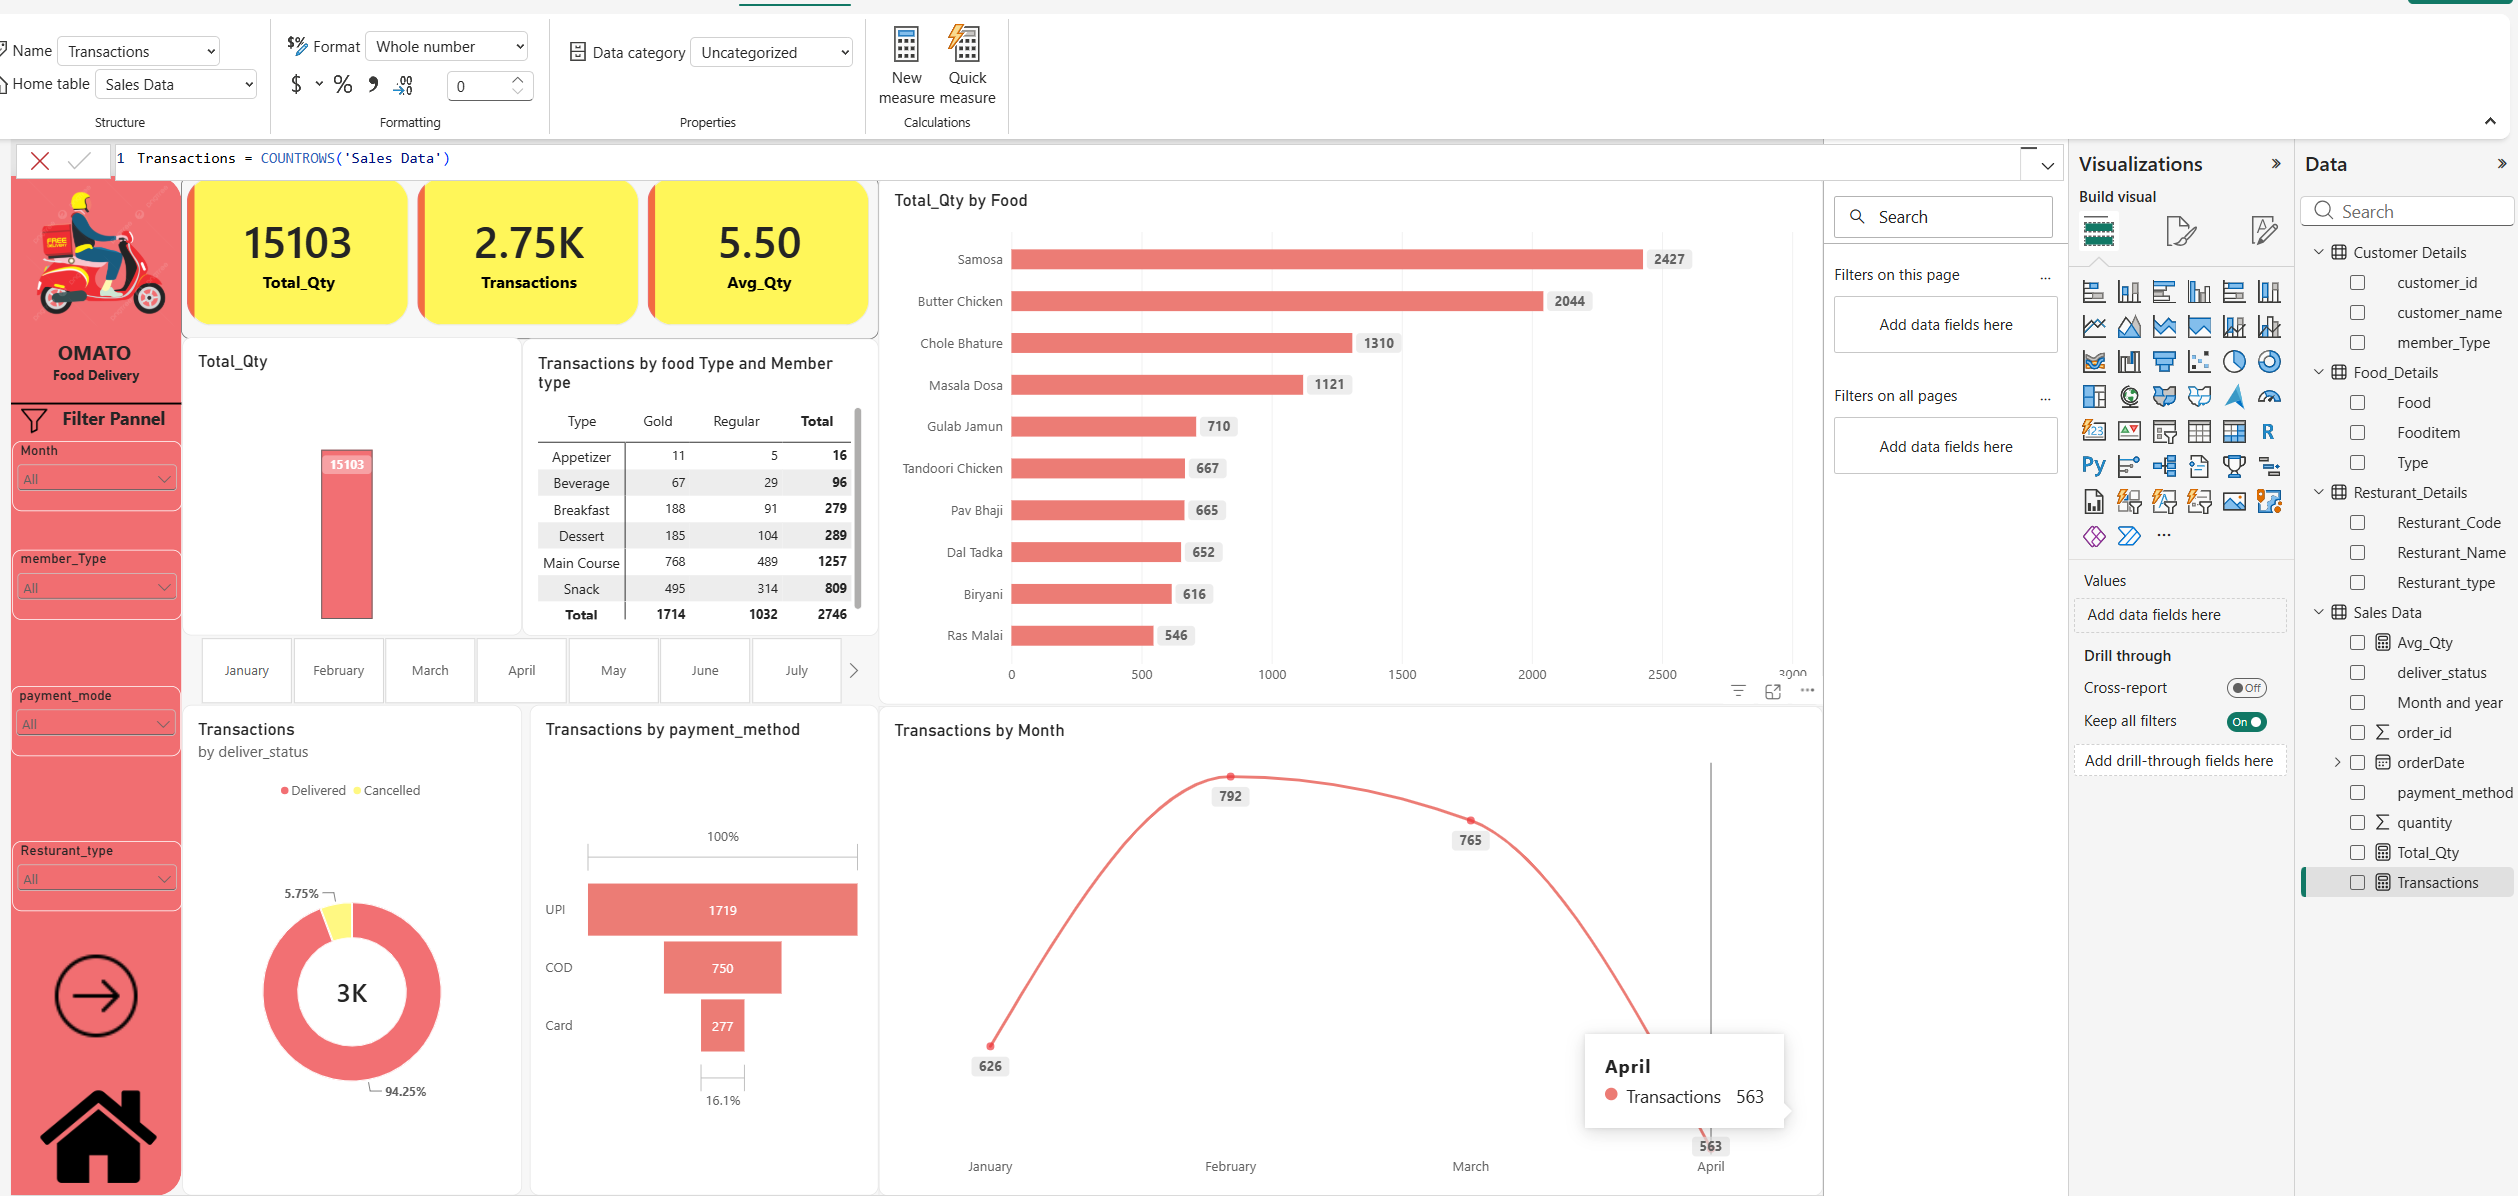

The page's visual inventory and layout, read from the dashboard file:
{"tool":"powerbi","page":{"name":"Page 1","canvas":[1920,1080],"ordinal":0},"visuals":[{"type":"shape","box":[0,0,180.7,1080.4],"z":0},{"type":"image","box":[10.6,0,170.1,163.5],"z":1000},{"type":"textbox","box":[0,172.8,180.7,66.4],"z":2000},{"type":"shape","box":[0,228.6,180.7,23.9],"z":3000},{"type":"cardVisual","fields":{"Data":["Sales Data.Total_Qty","Sales Data.Transactions","Sales Data.Avg_Qty"]},"box":[180.7,0,738.9,172.8],"z":4000},{"type":"clusteredColumnChart","fields":{"Y":["Sales Data.Total_Qty"]},"box":[182.1,171.4,360.1,316.3],"z":5000},{"type":"pivotTable","title":"Transactions by food Type and Member type","fields":{"Columns":["Customer Details.member_Type"],"Rows":["Food_Details.Type"],"Values":["Sales Data.Transactions"]},"box":[542.2,172.8,377.4,315],"z":6000},{"type":"donutChart","fields":{"Category":["Sales Data.deliver_status"],"Y":["Sales Data.Transactions"]},"box":[182.1,560.8,360.1,519.6],"z":7000},{"type":"funnel","fields":{"Category":["Sales Data.payment_method"],"Y":["Sales Data.Transactions"]},"box":[550.2,560.8,369.4,519.6],"z":8000},{"type":"clusteredBarChart","fields":{"Category":["Food_Details.Food"],"Y":["Sales Data.Total_Qty"]},"box":[919.1,0,1001.2,560.2],"z":9000},{"type":"lineChart","fields":{"Category":["Sales Data.orderDate.Variation.Date Hierarchy.Month"],"Y":["Sales Data.Transactions"]},"box":[919,561,1001,519],"z":10000},{"type":"slicer","fields":{"Values":["Sales Data.orderDate.Variation.Date Hierarchy.Month"]},"box":[1.3,280.8,180.1,74.2],"z":11000},{"type":"slicer","fields":{"Values":["Customer Details.member_Type"]},"box":[1.3,396,180.1,74.2],"z":12000},{"type":"slicer","fields":{"Values":["Sales Data.payment_method"]},"box":[0,540.3,180.1,74.2],"z":13000},{"type":"slicer","fields":{"Values":["Resturant_Details.Resturant_type"]},"box":[1.3,704.5,180.1,74.2],"z":14000},{"type":"slicer","fields":{"Values":["Sales Data.orderDate.Variation.Date Hierarchy.Month"]},"box":[181.4,487.4,717.8,72.8],"z":15000},{"type":"image","box":[10.6,238.4,27.8,42.4],"z":16000},{"type":"textbox","box":[54.3,243.7,115.2,31.8],"z":17000},{"type":"image","box":[15.9,956.2,153.6,123.2],"z":18000},{"type":"image","box":[33.1,821.1,113.9,95.4],"z":19000}]}

Visuals, with their boxes on the page's 1920x1080 design canvas (x1, y1, x2, y2). These are canvas units, not pixel positions in the 2518x1196 screenshot, which may show the page scaled, cropped or inside an application window:
shape: 0:0:181:1080
image: 11:0:181:164
textbox: 0:173:181:239
shape: 0:229:181:252
cardVisual - Sales Data.Total_Qty x Sales Data.Transactions: 181:0:920:173
clusteredColumnChart - Sales Data.Total_Qty: 182:171:542:488
"Transactions by food Type and Member type" pivotTable: 542:173:920:488
donutChart - Sales Data.deliver_status x Sales Data.Transactions: 182:561:542:1080
funnel - Sales Data.payment_method x Sales Data.Transactions: 550:561:920:1080
clusteredBarChart - Food_Details.Food x Sales Data.Total_Qty: 919:0:1920:560
lineChart - Sales Data.orderDate.Variation.Date Hierarchy.Month x Sales Data.Transactions: 919:561:1920:1080
slicer - Sales Data.orderDate.Variation.Date Hierarchy.Month: 1:281:181:355
slicer - Customer Details.member_Type: 1:396:181:470
slicer - Sales Data.payment_method: 0:540:180:614
slicer - Resturant_Details.Resturant_type: 1:704:181:779
slicer - Sales Data.orderDate.Variation.Date Hierarchy.Month: 181:487:899:560
image: 11:238:38:281
textbox: 54:244:170:276
image: 16:956:170:1079
image: 33:821:147:916
